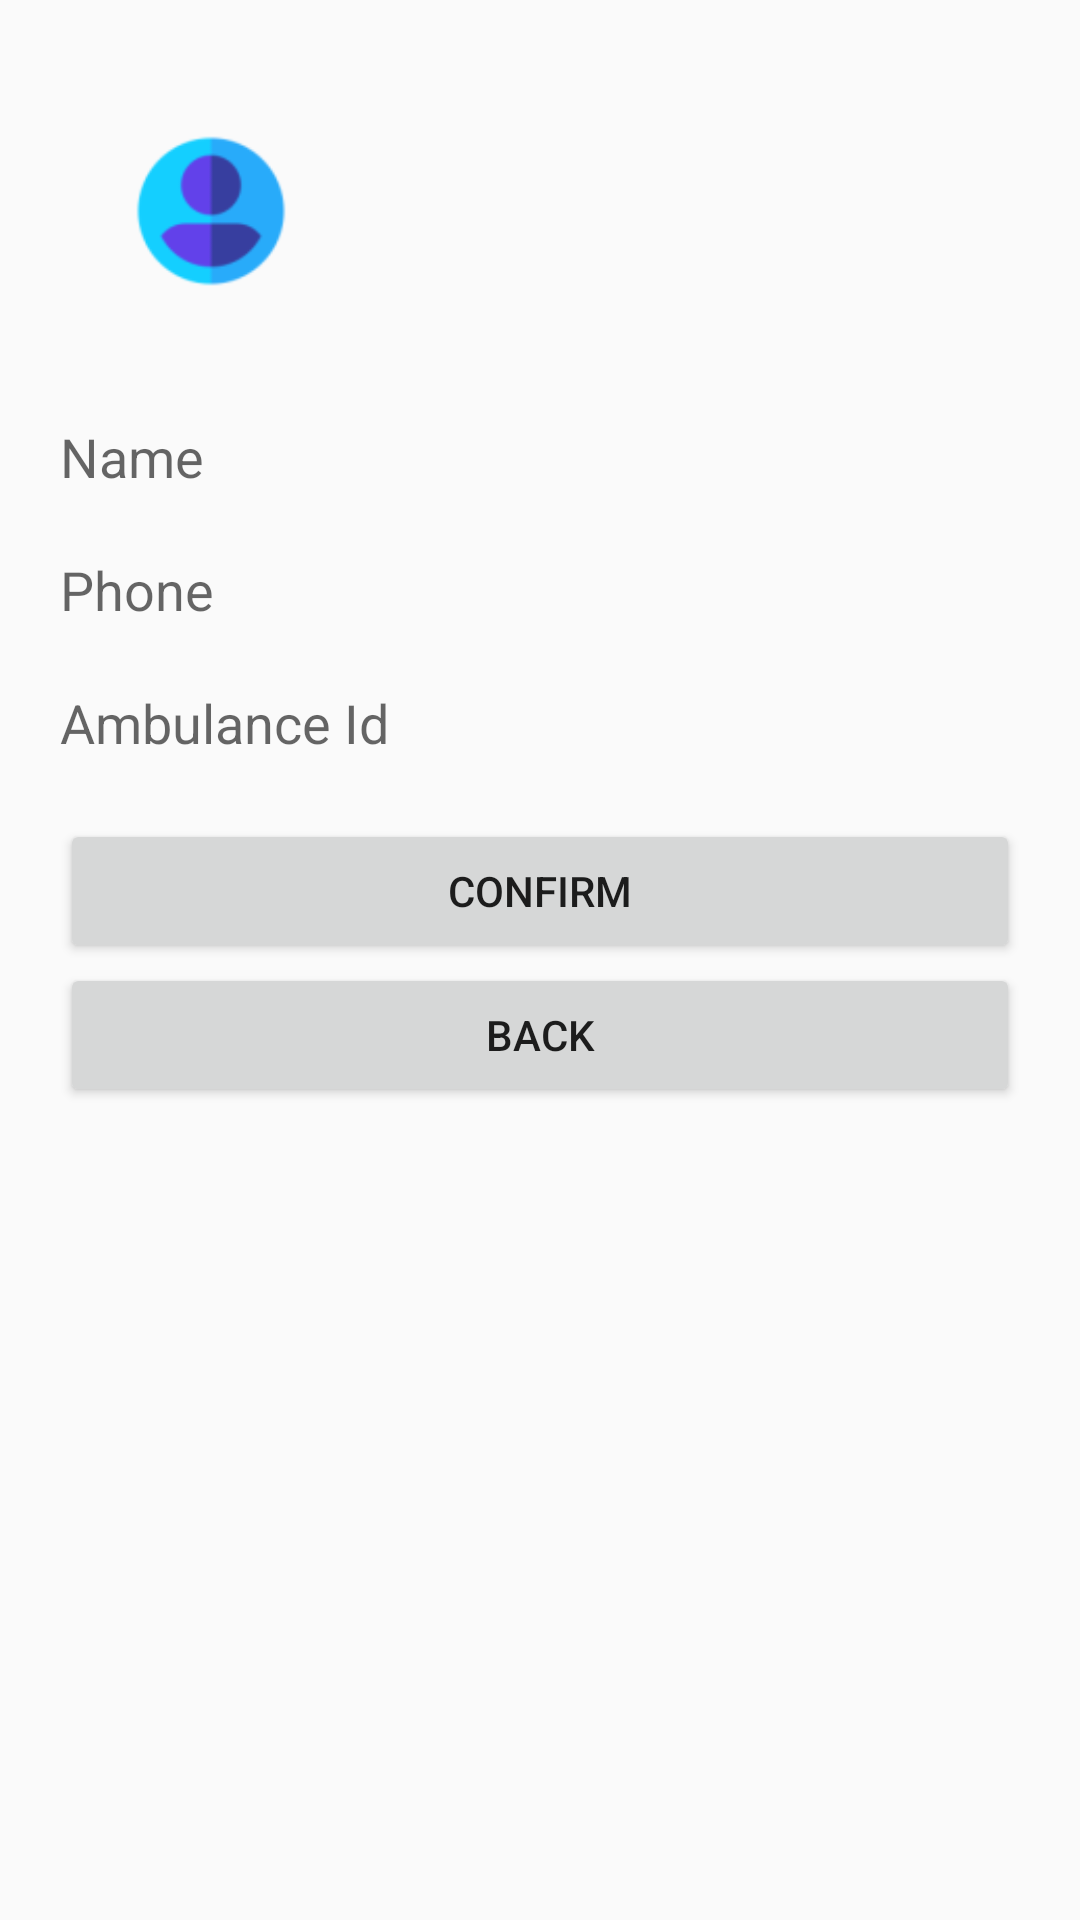

Point at icon controls on the screen. Image size 1080x1920, points as [x,y].
user: [211,211]
